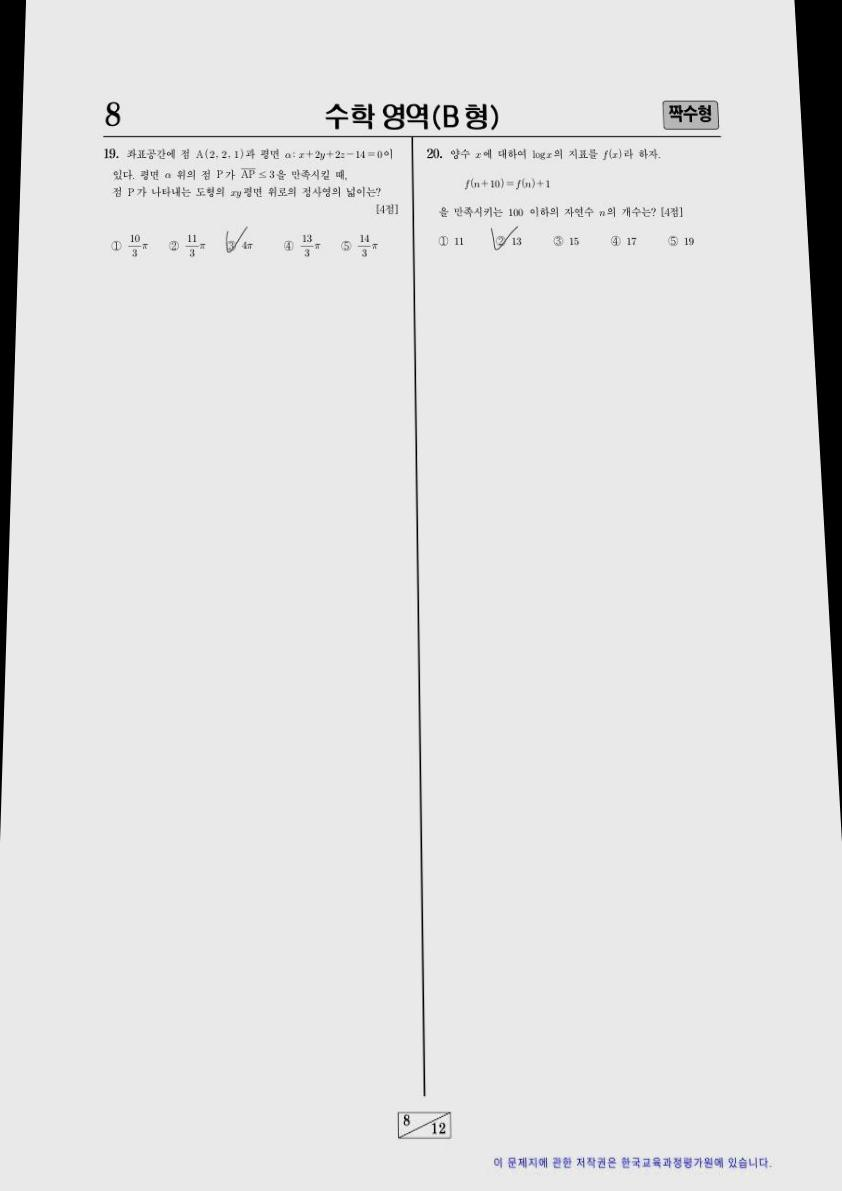question: (90, 139, 411, 272), (415, 138, 719, 266)
